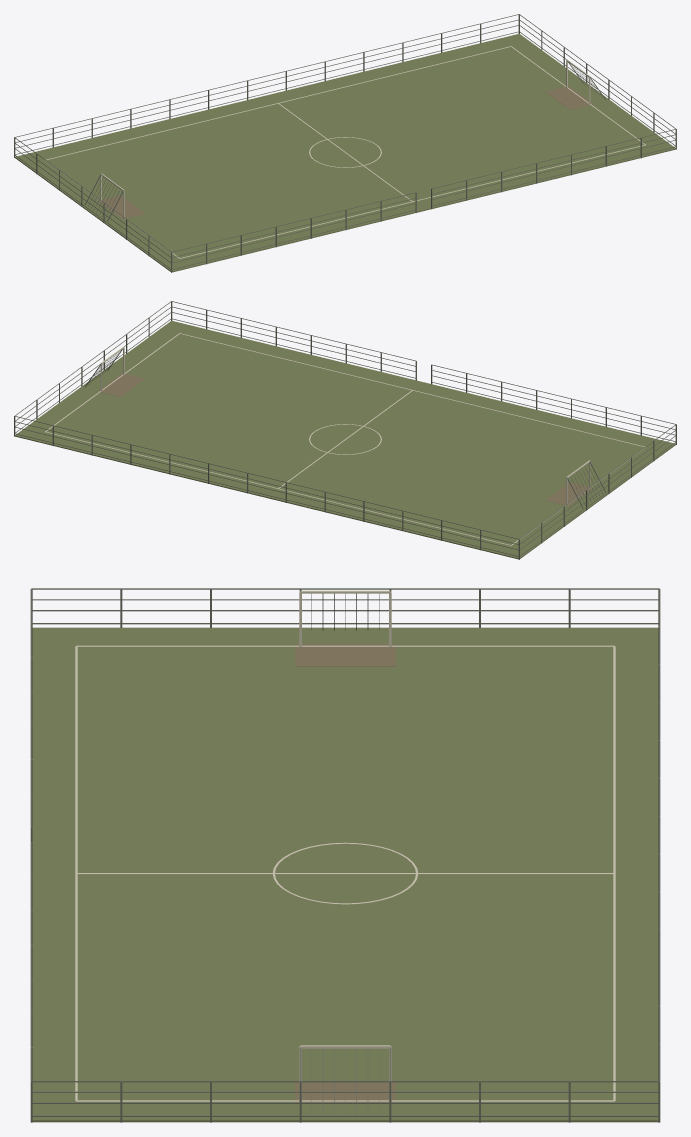
File: football_pitch.glb
3 views of the same model, one above another, from view 1: azimuth 30°, elevation 25°; view 2: azimuth 150°, elevation 25°; view 3: azimuth 270°, elevation 25° (orthographic). The views are drawn at different scales.
Parts seen in each view (by area): view 1: football_pitch; view 2: football_pitch; view 3: football_pitch.
Part boxes in pixels (x1,y1,x2,y2): football_pitch: [14, 14, 676, 272]; football_pitch: [14, 301, 676, 559]; football_pitch: [30, 588, 660, 1122].
Size of the model in its own units: 39.06 by 2.12 by 21.07.
